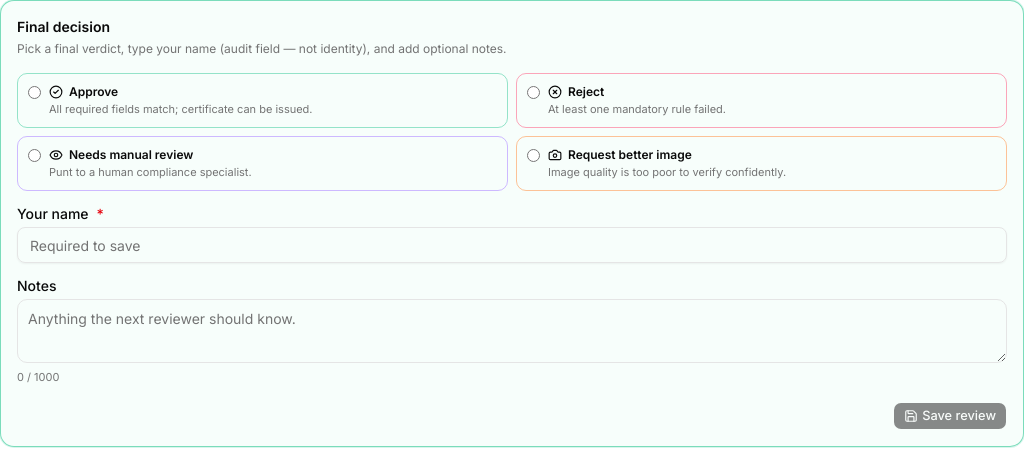
Test: FinalDecisionPanel › enforces 1000-char notes maximum and shows a counter
Type "abc" into the text box labelled "Notes".
click(512, 331); type("abc")  # box [17, 299, 1007, 363]
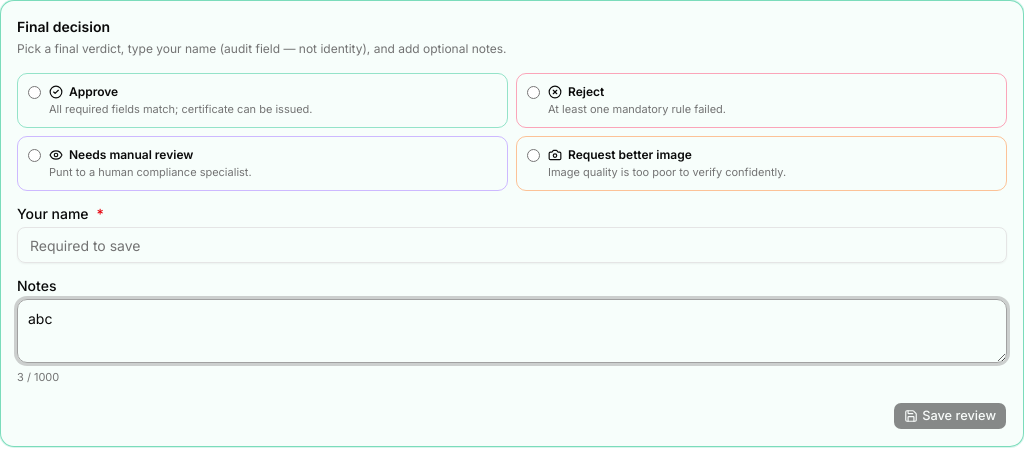
Check: the text "3 / 1000" is shown, box [17, 370, 59, 384]
